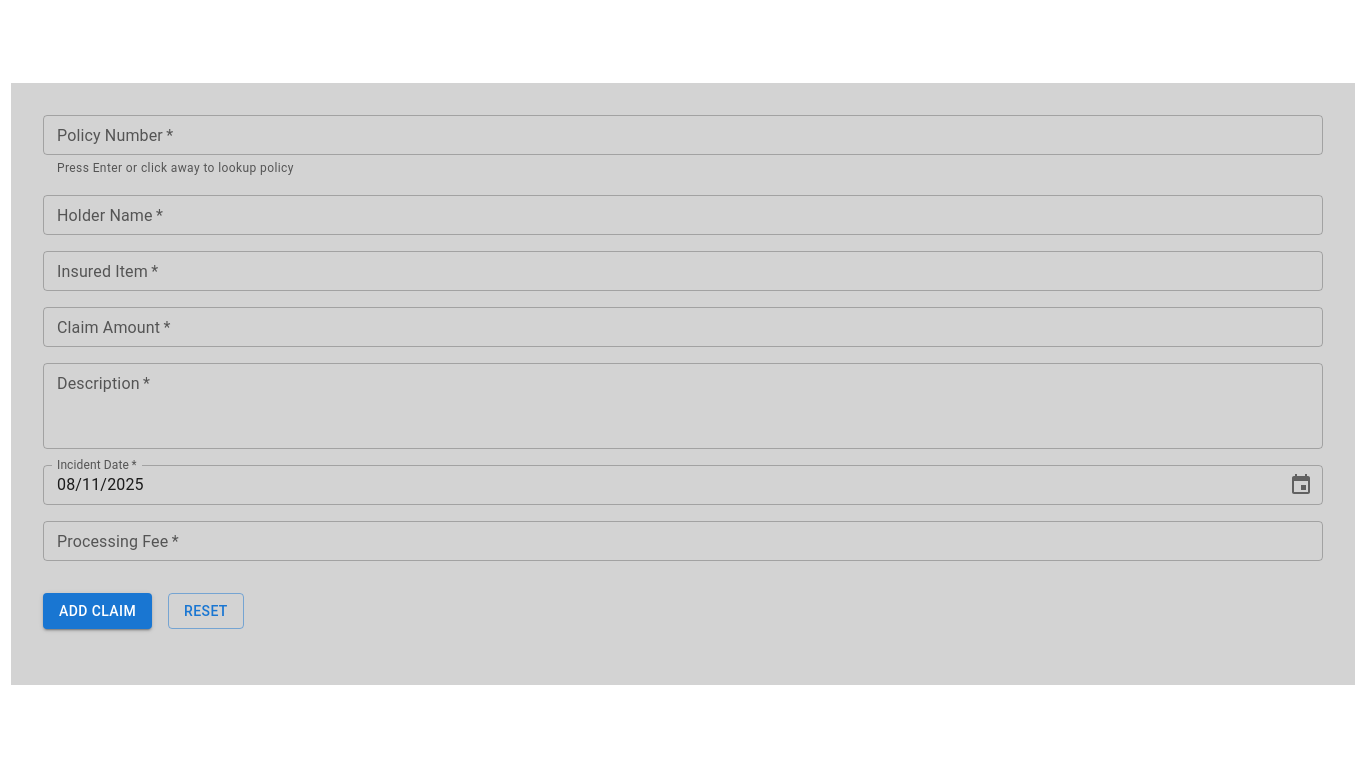
Test: ClaimForm › shows validation errors when submitting empty form
Click the button "Add Claim". click: point(98, 611)
box: x1=43 y1=593 x2=152 y2=629
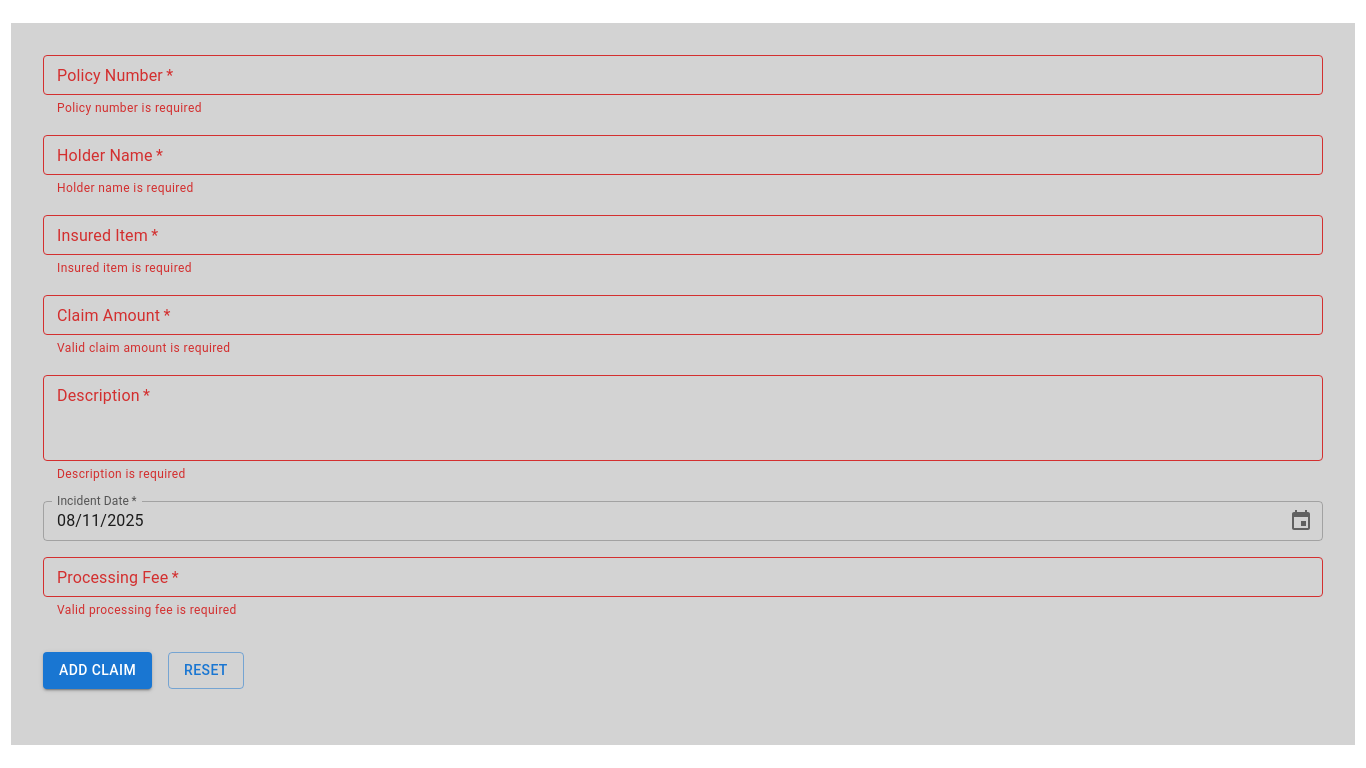
Expected: the text "Policy number is required" is shown, x1=57 y1=101 x2=202 y2=115
Expected: the text "Holder name is required" is shown, x1=57 y1=181 x2=194 y2=195
Expected: the text "Insured item is required" is shown, x1=57 y1=261 x2=192 y2=275
